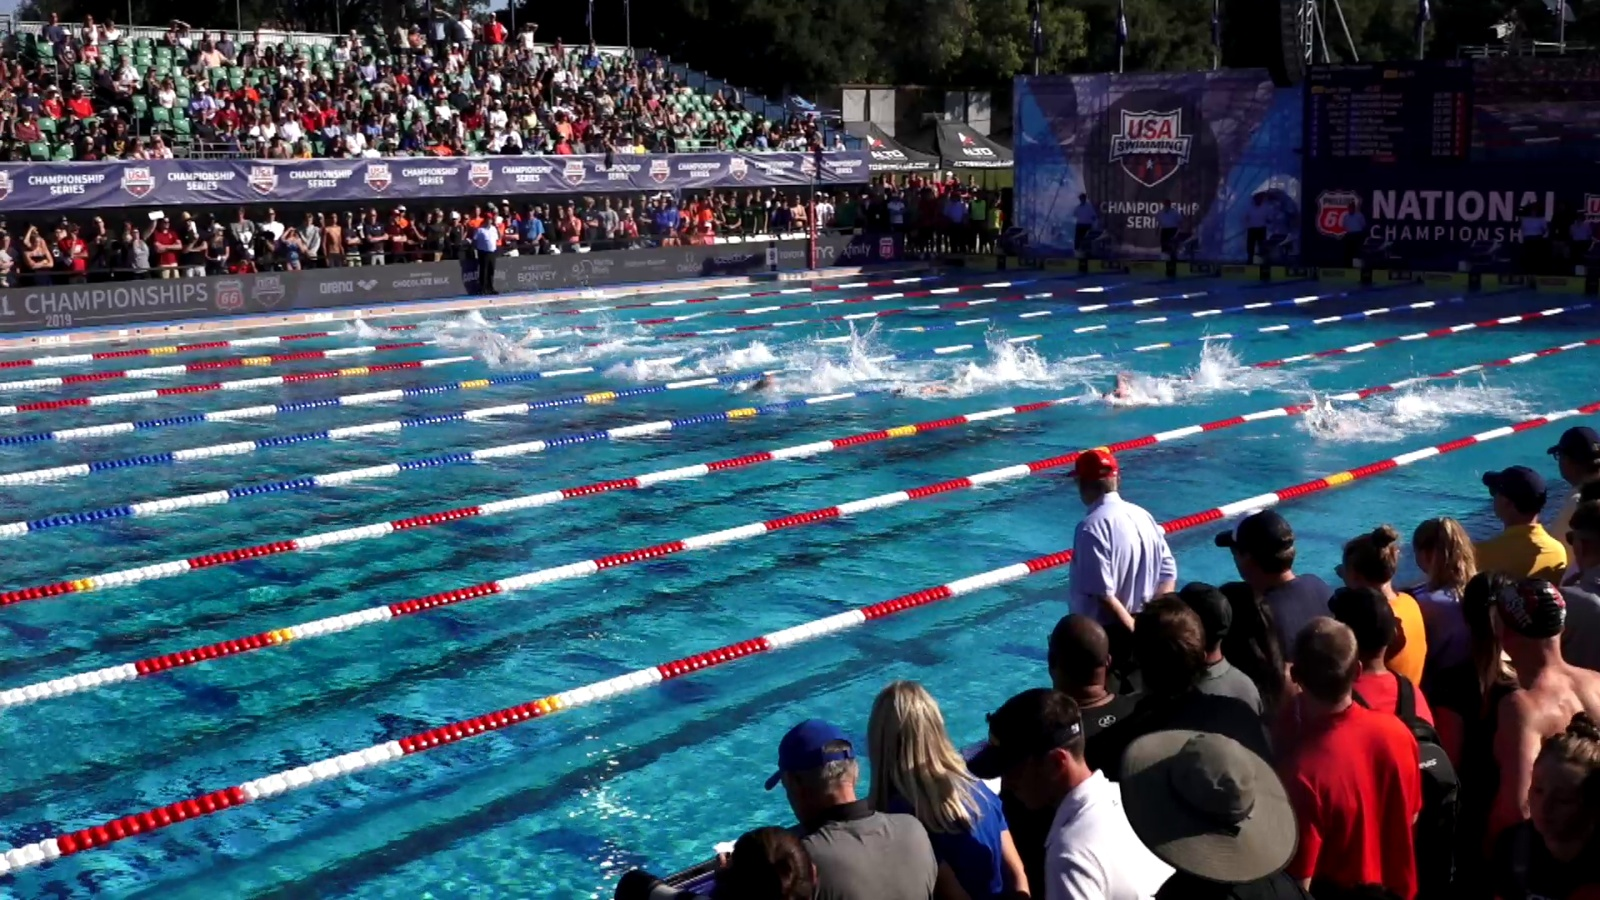swimmerw: (1299, 403, 1403, 449), (1099, 371, 1213, 408), (722, 369, 843, 403), (898, 373, 1003, 404), (476, 353, 577, 369), (635, 368, 707, 384), (349, 327, 411, 343), (445, 343, 522, 355)
